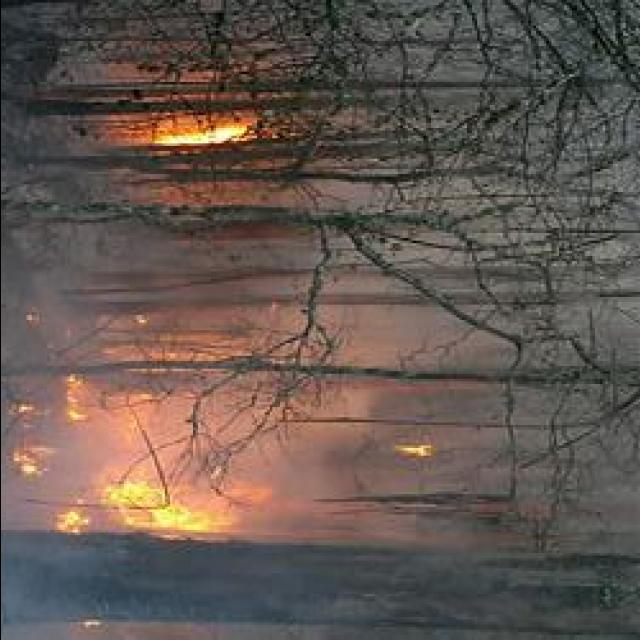fire: (52, 459, 235, 544), (122, 107, 263, 161), (62, 362, 158, 416), (392, 434, 447, 460), (14, 448, 42, 476)
smoke: (157, 204, 530, 340), (288, 532, 504, 630), (278, 408, 358, 502), (176, 354, 248, 438), (60, 241, 116, 333)
